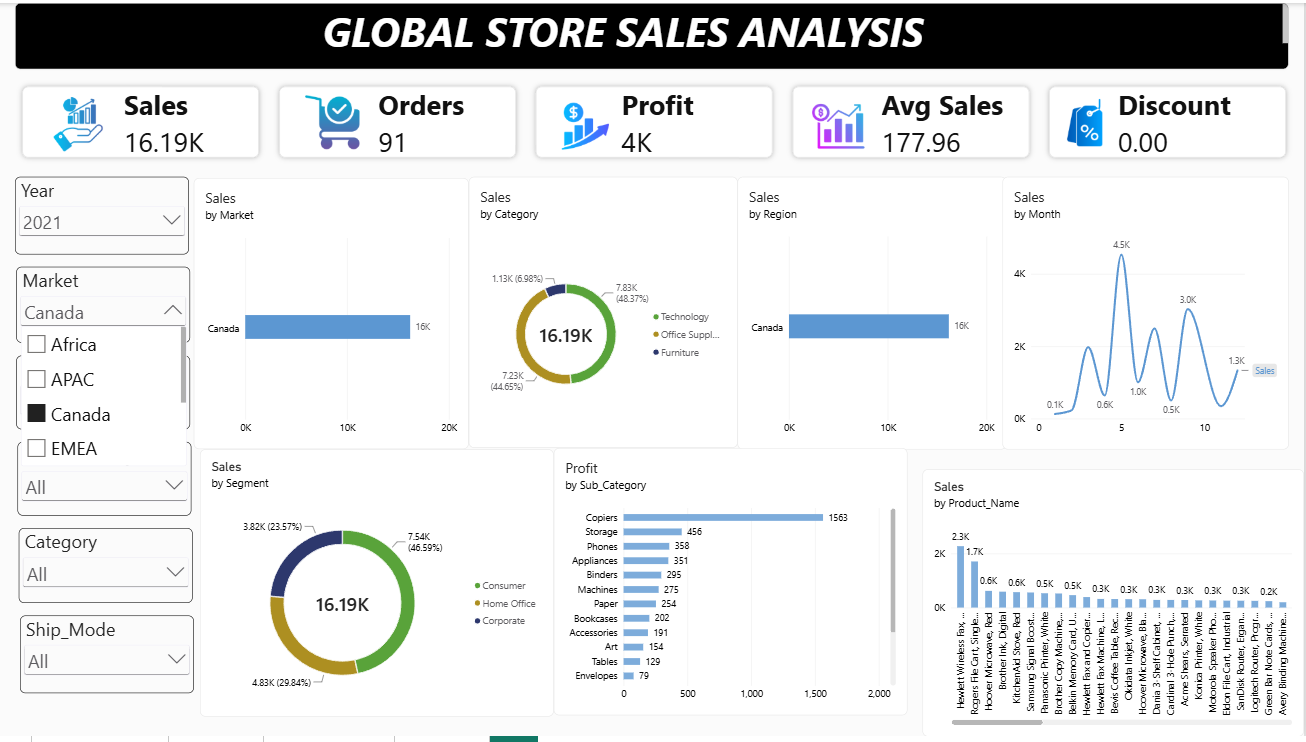

The page's visual inventory and layout, read from the dashboard file:
{"tool":"powerbi","page":{"name":"Page 1","canvas":[1920,1080],"ordinal":4},"visuals":[{"type":"textbox","box":[22.1,0,1875.5,97.5],"z":0},{"type":"slicer","fields":{"Values":["calender.month end date.Variation.Date Hierarchy.Year"]},"box":[22.1,255.8,255.8,114.1],"z":5000},{"type":"slicer","fields":{"Values":["gss_cci.Market"]},"box":[23.9,388.3,255.8,112.3],"z":6000},{"type":"slicer","fields":{"Values":["Orders.Ship_Mode"]},"box":[29.4,901.8,255.8,114.1],"z":7000},{"type":"slicer","fields":{"Values":["gss_cci.Category"]},"box":[27.6,773,255.8,110.4],"z":8000},{"type":"slicer","fields":{"Values":["gss_cci.Order_Priority"]},"box":[25.8,646,255.8,108.6],"z":9000},{"type":"slicer","fields":{"Values":["gss_cci.Region"]},"box":[23.9,519,255.8,108.6],"z":10000},{"type":"cardVisual","fields":{"Data":["MEASURE#.TOTAL SALES","MEASURE#.TOTAL ORDERS","MEASURE#.TOTAL PROFIT","MEASURE#.AVERAGE SALES","MEASURE#.TOTAL DISCOUNT"]},"box":[22.1,112.3,1886.5,127],"z":11000},{"type":"clusteredBarChart","fields":{"Category":["gss_cci.Market"],"Y":["MEASURE#.TOTAL SALES"]},"box":[285.7,257.5,404.9,399.4],"z":21001},{"type":"donutChart","fields":{"Category":["gss_cci.Category"],"Y":["MEASURE#.TOTAL SALES"]},"box":[690.2,255.8,395.7,399.4],"z":21003},{"type":"clusteredBarChart","fields":{"Category":["gss_cci.Region"],"Y":["MEASURE#.TOTAL SALES"]},"box":[1085.9,255.8,395.7,401.2],"z":21006},{"type":"lineChart","fields":{"Category":["calender.FY MONTH"],"Y":["MEASURE#.TOTAL SALES"]},"box":[1476.1,255.8,421.5,401.2],"z":21007},{"type":"clusteredBarChart","fields":{"Category":["gss_cci.Sub_Category"],"Y":["Sum(gss_cci.Profit)"]},"box":[815.3,655.2,520.9,393.9],"z":21008},{"type":"donutChart","fields":{"Category":["gss_cci.Segment"],"Y":["MEASURE#.TOTAL SALES"]},"box":[294.3,657.9,520.9,393.9],"z":21009},{"type":"clusteredColumnChart","fields":{"Category":["gss_cci.Product_Name"],"Y":["Sum(gss_cci.Sales)"]},"box":[1336.2,657.1,561.4,393.9],"z":21010}]}

Visuals, with their boxes in screenshot pixels (x1, y1, x2, y2), scaled from the page's 1920x1080 canvas onto the 1306x742 screenshot:
textbox: bbox=[15, 0, 1291, 67]
slicer - calender.month end date.Variation.Date Hierarchy.Year: bbox=[15, 176, 189, 254]
slicer - gss_cci.Market: bbox=[16, 267, 190, 344]
slicer - Orders.Ship_Mode: bbox=[20, 620, 194, 698]
slicer - gss_cci.Category: bbox=[19, 531, 193, 607]
slicer - gss_cci.Order_Priority: bbox=[18, 444, 192, 518]
slicer - gss_cci.Region: bbox=[16, 357, 190, 431]
cardVisual - MEASURE#.TOTAL SALES x MEASURE#.TOTAL ORDERS: bbox=[15, 77, 1298, 164]
clusteredBarChart - gss_cci.Market x MEASURE#.TOTAL SALES: bbox=[194, 177, 470, 451]
donutChart - gss_cci.Category x MEASURE#.TOTAL SALES: bbox=[469, 176, 739, 450]
clusteredBarChart - gss_cci.Region x MEASURE#.TOTAL SALES: bbox=[739, 176, 1008, 451]
lineChart - calender.FY MONTH x MEASURE#.TOTAL SALES: bbox=[1004, 176, 1291, 451]
clusteredBarChart - gss_cci.Sub_Category x Sum(gss_cci.Profit): bbox=[555, 450, 909, 721]
donutChart - gss_cci.Segment x MEASURE#.TOTAL SALES: bbox=[200, 452, 555, 723]
clusteredColumnChart - gss_cci.Product_Name x Sum(gss_cci.Sales): bbox=[909, 451, 1291, 722]
